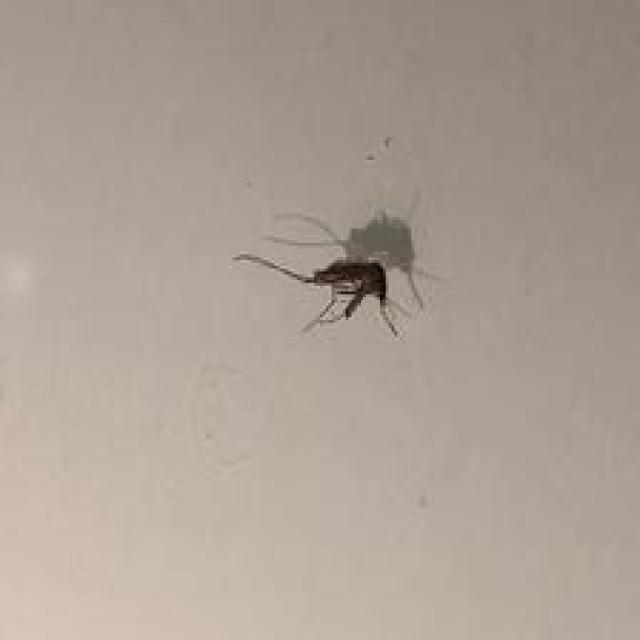Culex: (230, 136, 441, 338)
